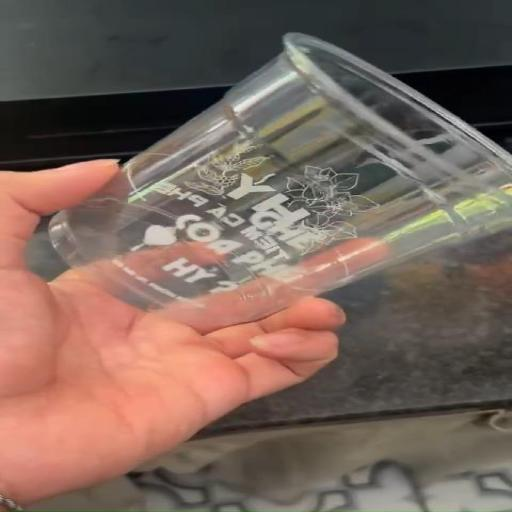ly_giay: (49, 34, 511, 328)
